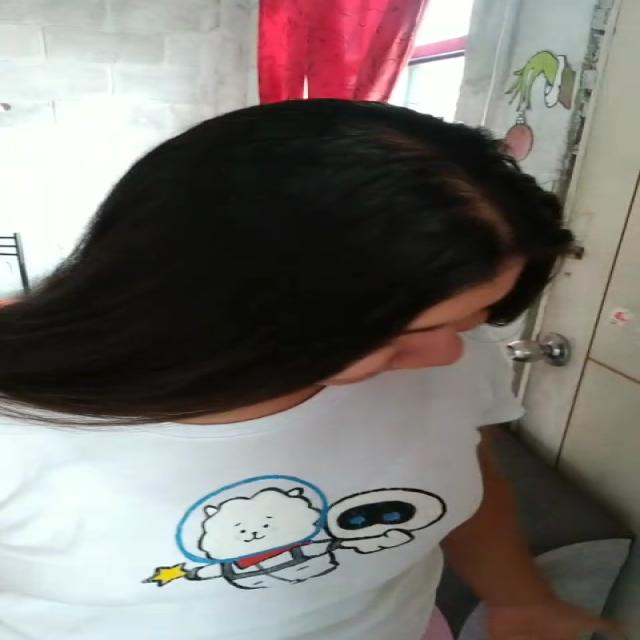9_cabeza_baja: (93, 97, 579, 386)
